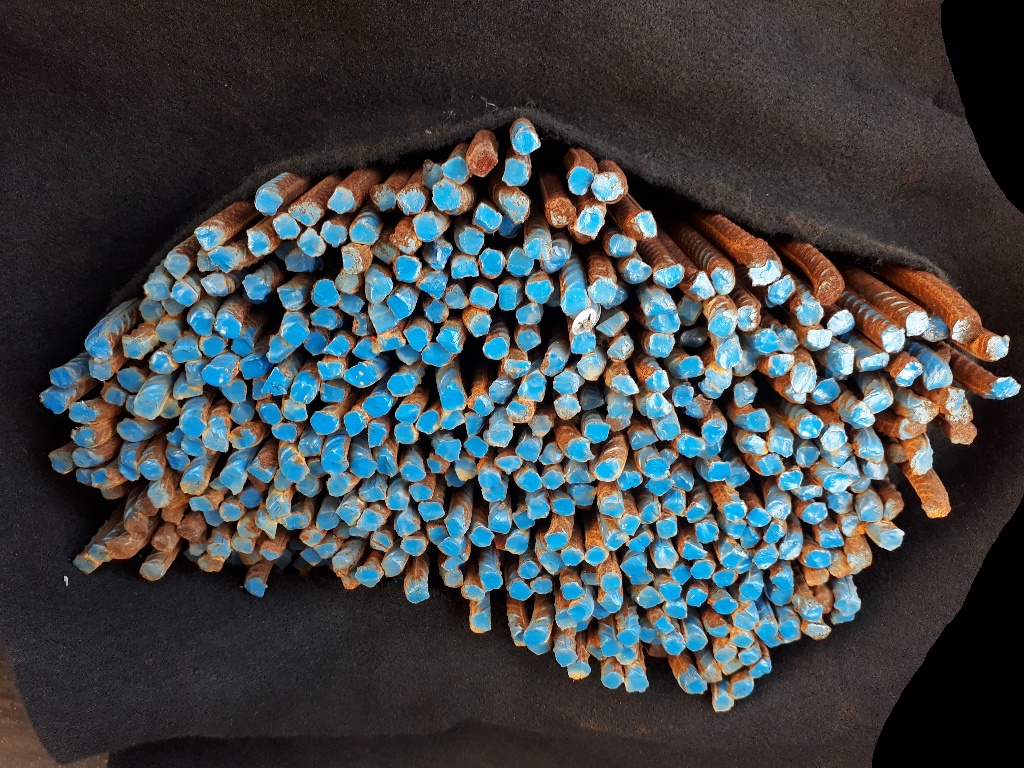dipstick: (496, 188, 532, 224), (950, 312, 983, 347), (365, 265, 391, 303), (591, 172, 623, 202), (397, 184, 427, 216), (341, 243, 371, 275), (288, 197, 321, 226), (575, 207, 605, 238), (824, 345, 854, 376), (389, 226, 422, 254), (389, 285, 416, 319), (432, 180, 462, 210), (714, 338, 744, 368), (517, 373, 547, 403), (748, 257, 779, 286), (192, 224, 225, 251), (417, 269, 445, 300), (644, 332, 676, 359), (769, 424, 795, 457), (629, 210, 658, 239), (261, 367, 290, 396), (320, 218, 350, 246), (890, 360, 920, 388), (366, 183, 397, 210), (208, 246, 239, 273), (371, 232, 397, 264), (487, 374, 513, 406), (115, 367, 147, 393), (645, 310, 682, 332), (506, 247, 534, 276), (813, 376, 841, 405), (641, 365, 669, 394), (312, 279, 341, 307), (267, 334, 295, 363), (567, 165, 594, 195), (474, 201, 500, 232), (768, 273, 794, 304), (792, 360, 817, 392), (597, 312, 629, 337), (526, 277, 554, 305), (437, 325, 465, 353), (457, 226, 484, 255), (588, 278, 615, 307), (412, 213, 439, 242), (829, 307, 856, 336), (577, 353, 604, 382), (372, 330, 406, 353), (468, 150, 498, 176), (441, 157, 471, 183), (298, 226, 324, 256), (463, 308, 489, 338), (677, 293, 703, 323), (630, 426, 660, 452), (344, 363, 375, 388), (283, 247, 315, 271), (502, 157, 529, 185), (548, 200, 576, 227), (736, 302, 763, 330), (733, 379, 760, 407), (607, 335, 635, 362), (328, 188, 357, 214), (254, 188, 283, 214), (709, 309, 735, 338), (368, 306, 397, 332), (40, 388, 69, 414), (246, 227, 271, 257), (553, 395, 583, 420), (177, 513, 202, 543), (495, 281, 519, 312), (737, 432, 768, 456), (675, 432, 706, 456), (663, 487, 687, 518), (561, 288, 588, 315), (949, 420, 976, 447), (773, 327, 800, 354), (218, 468, 245, 495), (879, 324, 905, 352), (646, 393, 674, 419), (770, 574, 792, 607), (539, 246, 568, 271), (925, 313, 950, 342), (941, 385, 966, 414), (701, 415, 726, 444), (363, 393, 392, 418), (926, 363, 956, 387), (567, 438, 597, 462), (148, 351, 178, 375), (420, 344, 454, 365), (739, 409, 770, 432), (552, 370, 583, 393), (606, 235, 638, 257), (825, 444, 857, 466), (894, 417, 931, 436), (272, 213, 299, 239), (514, 435, 540, 462), (471, 391, 498, 417), (86, 334, 113, 360), (469, 285, 497, 310), (796, 301, 824, 326), (857, 352, 892, 372), (865, 388, 893, 413), (751, 329, 779, 354), (244, 275, 269, 303), (49, 449, 77, 474), (691, 271, 715, 300), (451, 257, 480, 281), (797, 415, 826, 439), (512, 129, 542, 152), (480, 248, 503, 278), (310, 307, 340, 330), (202, 429, 232, 452), (442, 284, 468, 310), (335, 268, 361, 294), (222, 378, 248, 404), (350, 220, 377, 245), (513, 301, 540, 326), (753, 546, 780, 571), (733, 603, 758, 630), (277, 286, 304, 311), (216, 314, 243, 339), (394, 510, 421, 535), (524, 236, 552, 260), (623, 259, 651, 283), (678, 328, 710, 349), (794, 444, 822, 468), (282, 323, 310, 347), (171, 282, 199, 306), (903, 307, 926, 336), (821, 427, 850, 450), (703, 366, 733, 388), (676, 356, 706, 378), (756, 453, 786, 475), (256, 510, 278, 540), (775, 468, 806, 489), (815, 527, 846, 548), (540, 351, 566, 376), (424, 298, 448, 325), (481, 336, 508, 360), (322, 453, 349, 477), (133, 398, 160, 422), (818, 279, 841, 307), (911, 399, 939, 422), (766, 354, 794, 377), (878, 528, 906, 551), (636, 585, 664, 608), (507, 400, 535, 423), (310, 412, 338, 435), (281, 460, 309, 483), (886, 492, 906, 524), (172, 379, 204, 399), (565, 461, 594, 483), (926, 497, 956, 518), (738, 575, 763, 600), (527, 414, 552, 439), (140, 458, 165, 483), (657, 264, 683, 288), (428, 243, 452, 269), (911, 450, 935, 476), (643, 456, 669, 480), (201, 272, 227, 296), (100, 382, 126, 406), (180, 472, 206, 496), (711, 267, 734, 294), (515, 328, 542, 351), (862, 459, 889, 482), (846, 546, 873, 569), (694, 521, 721, 544), (653, 545, 680, 568), (539, 443, 566, 466), (240, 358, 267, 381), (805, 326, 833, 348), (67, 401, 95, 423), (856, 441, 885, 462), (827, 492, 856, 513), (822, 472, 851, 493), (800, 501, 829, 522), (395, 256, 419, 281), (849, 404, 879, 424), (672, 469, 697, 493), (352, 336, 376, 361), (316, 361, 346, 381), (202, 366, 232, 386), (124, 516, 149, 540), (595, 459, 621, 482), (337, 291, 363, 314), (417, 410, 440, 436), (70, 425, 96, 448), (166, 448, 192, 471), (620, 553, 647, 575), (199, 335, 226, 357), (298, 436, 325, 458), (49, 366, 76, 388), (644, 476, 675, 495), (367, 421, 388, 449), (185, 360, 206, 388), (422, 160, 442, 189), (728, 678, 757, 698), (661, 600, 690, 620), (625, 670, 649, 694), (258, 402, 282, 426), (147, 484, 171, 508), (512, 506, 535, 531), (166, 255, 191, 278), (387, 374, 412, 397), (290, 381, 315, 404), (437, 438, 462, 461), (249, 460, 274, 483), (117, 418, 142, 441), (140, 558, 165, 581), (735, 351, 757, 377), (319, 382, 345, 404), (181, 435, 207, 457), (355, 566, 381, 588), (673, 382, 694, 409), (682, 539, 709, 560), (493, 453, 520, 474), (281, 400, 308, 421), (143, 281, 171, 301), (407, 327, 431, 350), (860, 501, 884, 524), (663, 633, 686, 657), (197, 248, 220, 272), (87, 357, 111, 380), (296, 475, 320, 498), (405, 580, 429, 603), (455, 458, 479, 481), (483, 429, 512, 448), (198, 554, 227, 573), (778, 539, 803, 561), (571, 484, 596, 506), (541, 549, 563, 574), (712, 595, 738, 616), (400, 462, 426, 483), (229, 428, 255, 449), (479, 571, 505, 592), (626, 531, 653, 551), (566, 660, 593, 680), (272, 424, 299, 444), (417, 502, 444, 522), (438, 537, 468, 555), (602, 494, 625, 517), (232, 334, 255, 357), (525, 237, 549, 259), (722, 500, 746, 522), (747, 507, 771, 529), (517, 469, 541, 491), (509, 580, 533, 602), (230, 403, 254, 425), (645, 295, 676, 312), (442, 390, 467, 411), (425, 453, 450, 474), (689, 560, 715, 580), (683, 502, 709, 522), (616, 470, 642, 490), (598, 594, 624, 614), (584, 423, 610, 443), (344, 411, 364, 437), (408, 483, 434, 503), (612, 372, 639, 391), (607, 402, 634, 421), (155, 324, 182, 343), (824, 473, 854, 490), (656, 516, 679, 538), (670, 562, 692, 585), (588, 598, 611, 620), (305, 333, 328, 355), (352, 457, 375, 479), (377, 454, 399, 477), (160, 397, 183, 419), (327, 475, 350, 497), (370, 528, 393, 550), (713, 644, 741, 662), (684, 676, 708, 697), (350, 313, 371, 337), (394, 423, 418, 444), (181, 417, 205, 438), (657, 418, 682, 438), (708, 462, 733, 482), (581, 391, 606, 411), (542, 469, 567, 489), (324, 336, 349, 356), (140, 302, 165, 322), (801, 551, 832, 567), (707, 619, 733, 638), (71, 446, 97, 465), (134, 498, 160, 517), (172, 346, 201, 363), (441, 554, 470, 571), (805, 568, 832, 586), (399, 538, 426, 556), (780, 620, 802, 642), (561, 545, 583, 567), (396, 402, 418, 424), (119, 460, 141, 482), (571, 333, 594, 354), (842, 515, 865, 536), (659, 580, 682, 601), (267, 500, 290, 521), (357, 509, 380, 530), (723, 519, 747, 539), (465, 411, 485, 435), (237, 518, 261, 538), (243, 578, 267, 598), (604, 531, 629, 550), (441, 411, 466, 430), (73, 555, 98, 574), (805, 622, 831, 640), (161, 298, 187, 316), (315, 512, 341, 530), (278, 514, 307, 530), (659, 445, 681, 466), (730, 465, 751, 487), (703, 662, 725, 683), (584, 546, 606, 567), (122, 336, 143, 358), (687, 587, 710, 607), (562, 579, 585, 599), (556, 647, 579, 667), (528, 498, 548, 521), (506, 534, 529, 554), (483, 484, 506, 504), (396, 346, 419, 366), (106, 540, 129, 560), (471, 526, 494, 546), (189, 496, 216, 513), (713, 569, 737, 588), (718, 658, 748, 673), (794, 485, 826, 499), (522, 629, 548, 646), (300, 528, 326, 545), (683, 398, 704, 419), (720, 550, 742, 570), (480, 469, 502, 489), (162, 506, 184, 526), (219, 502, 241, 522), (338, 506, 360, 526), (187, 535, 207, 557), (749, 660, 772, 679), (600, 638, 623, 657), (630, 568, 654, 586), (529, 577, 553, 595), (426, 526, 450, 544), (462, 584, 486, 602), (258, 542, 282, 560), (835, 598, 860, 615), (231, 537, 256, 554), (715, 693, 736, 713), (641, 502, 661, 523), (620, 515, 640, 536), (546, 531, 567, 551), (166, 425, 186, 446), (382, 557, 402, 578), (767, 501, 789, 520), (554, 610, 576, 629), (240, 489, 262, 508), (739, 648, 762, 666), (599, 574, 622, 592), (488, 516, 511, 534), (315, 542, 338, 560), (339, 573, 363, 590), (332, 556, 352, 576), (617, 628, 638, 647), (151, 533, 172, 552), (471, 614, 492, 633), (816, 593, 834, 615), (686, 633, 708, 651), (301, 548, 323, 566), (387, 493, 410, 510), (360, 485, 384, 501), (803, 605, 822, 625), (757, 622, 777, 641), (617, 647, 637, 666), (518, 560, 537, 580), (445, 518, 464, 538), (443, 570, 463, 589), (731, 629, 754, 645), (569, 601, 588, 620), (195, 317, 214, 336), (89, 543, 108, 562), (209, 542, 231, 558), (655, 615, 673, 634), (851, 477, 871, 494), (638, 627, 658, 644), (602, 671, 622, 688), (101, 486, 125, 500), (445, 471, 466, 487), (91, 467, 106, 487), (240, 553, 263, 566), (582, 571, 601, 586), (76, 468, 93, 484)
